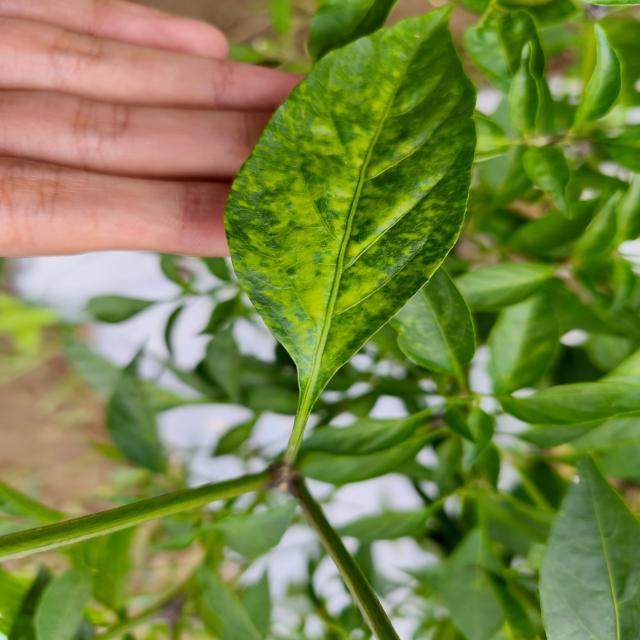Virus Kuning: (222, 3, 479, 389)
